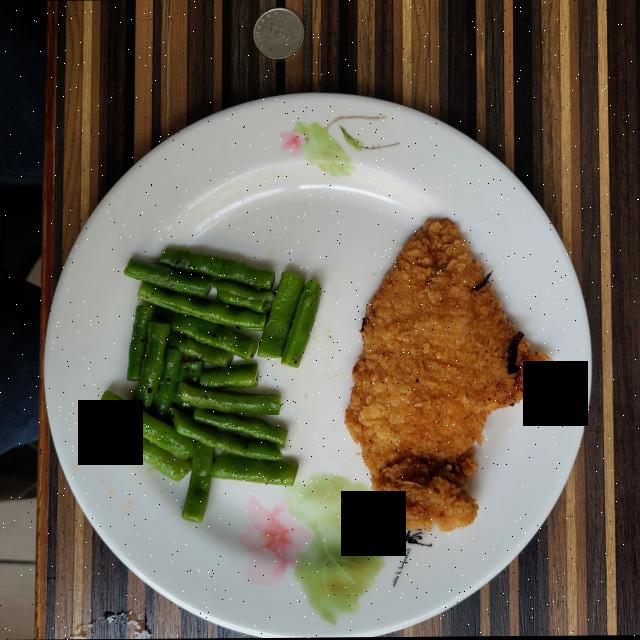coin: (254, 8, 304, 59)
fried chicken cutlet: (346, 219, 550, 530)
